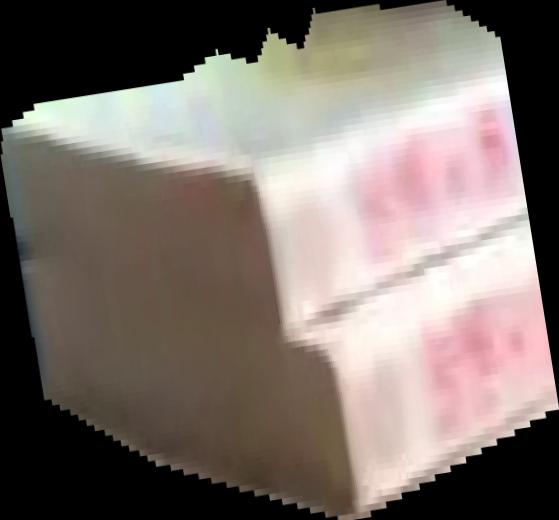flat: (1, 1, 559, 520)
